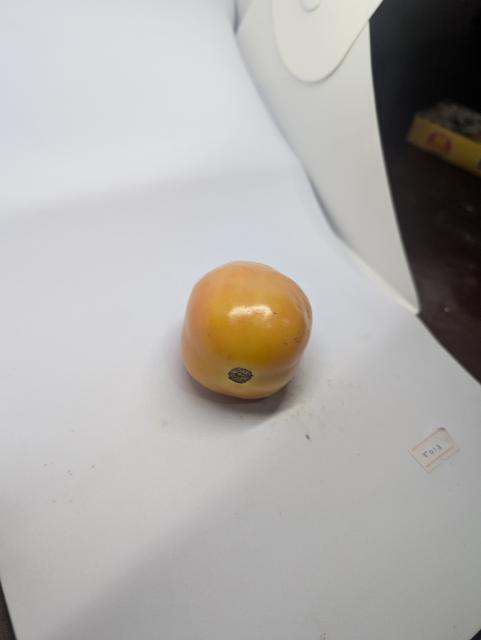turning: (169, 245, 320, 404)
